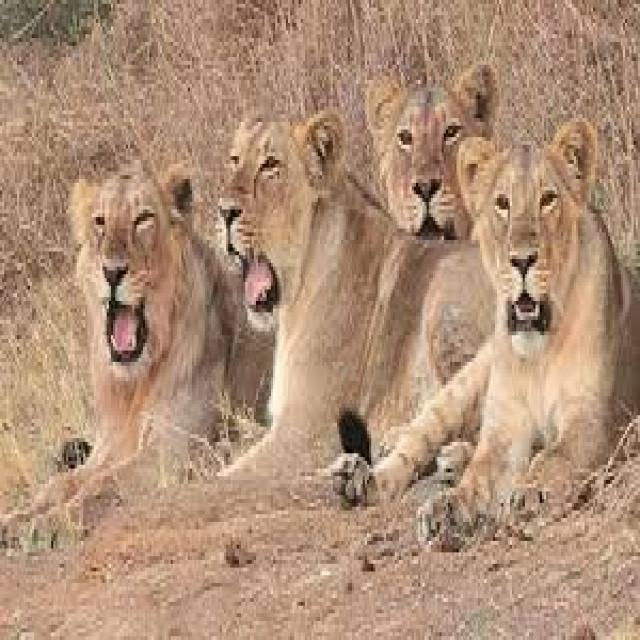Lion: (330, 119, 638, 556), (214, 101, 474, 480), (0, 165, 241, 552)
